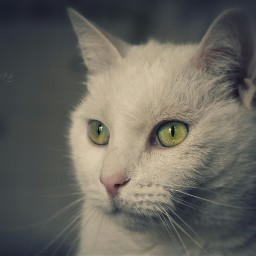cat: (61, 4, 255, 250)
